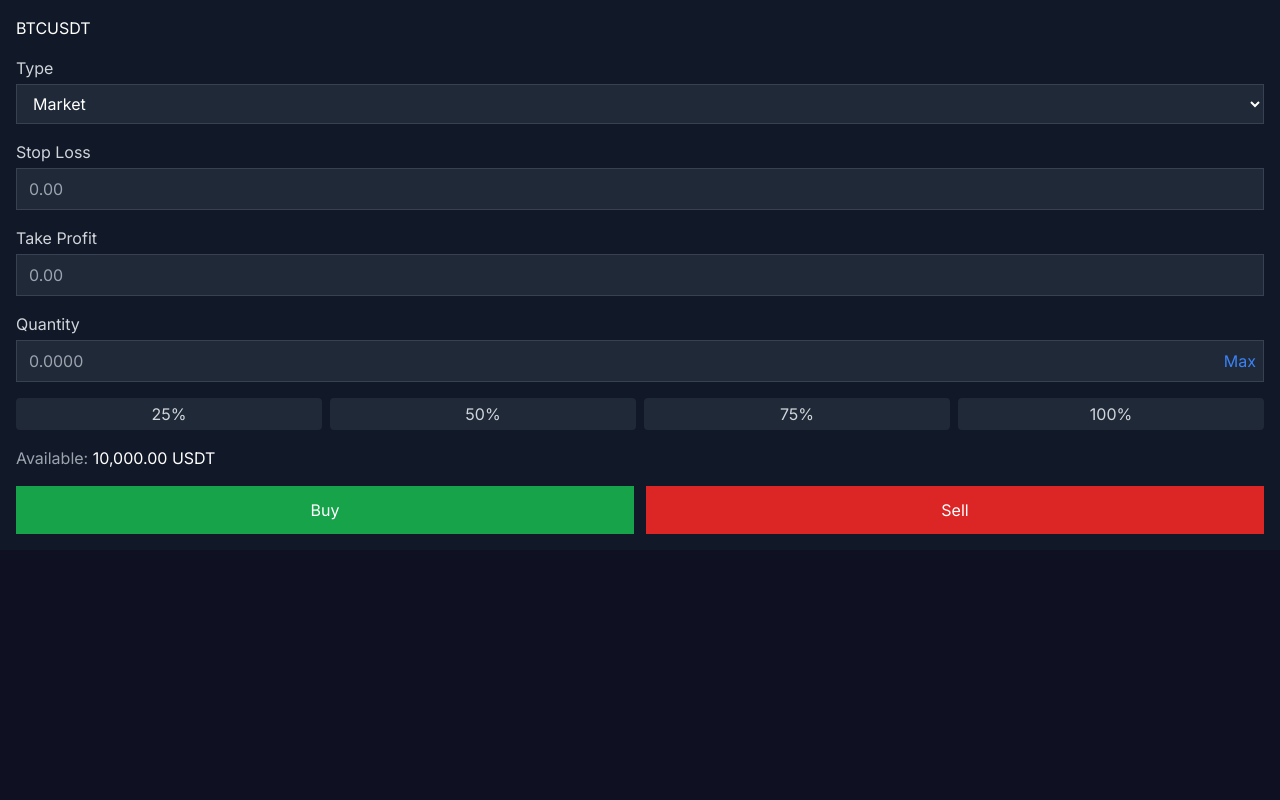
Test case: PanelPB › validation › should show error for empty quantity
The image size is (1280, 800).
Click the button with test id "buy-button": click(325, 510) [16, 486, 634, 534]
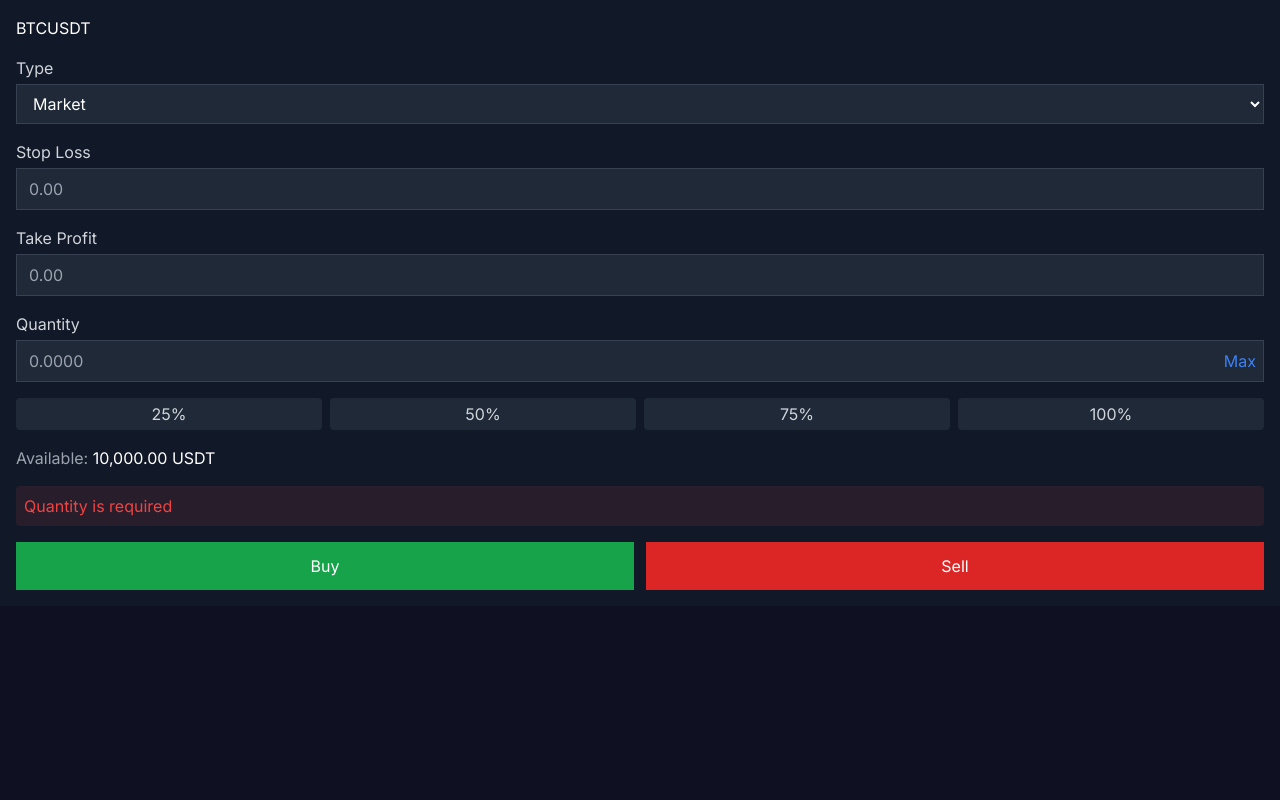
Now the text "Quantity is required" is shown, box [16, 486, 1264, 526]
